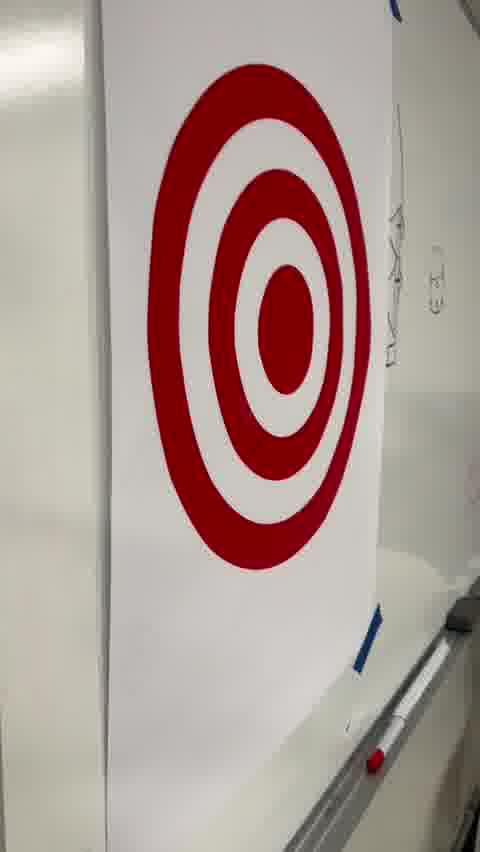target_red: (144, 62, 373, 571)
